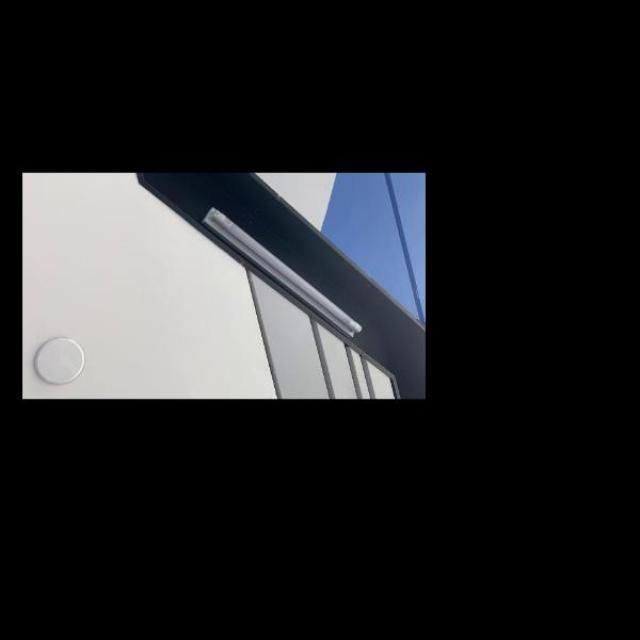Straight-Tube-Fluorescent-Lamp: (198, 195, 366, 348)
